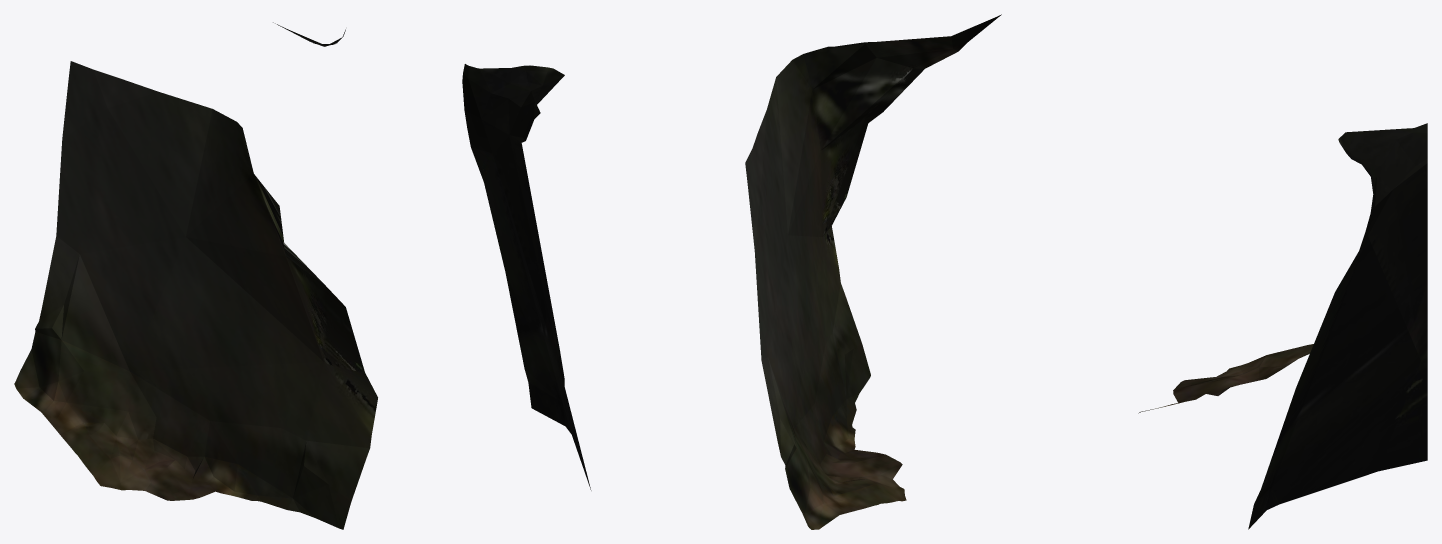
The picture shows the model from 3 angles, left to right: view 1: azimuth 30°, elevation 25°; view 2: azimuth 150°, elevation 25°; view 3: azimuth 270°, elevation 25°; orthographic projection. The views are drawn at different scales.
Size of the model in its own units: 0.8374 by 0.8374 by 0.8373.
4 materials, 4 textured.
